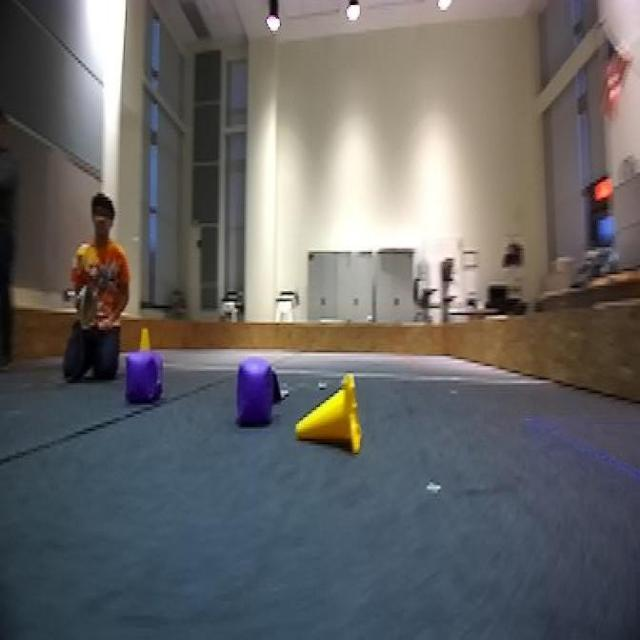frc_cone: (288, 366, 362, 460), (125, 322, 160, 356)
frc_cube: (228, 356, 274, 430), (123, 349, 151, 407)
